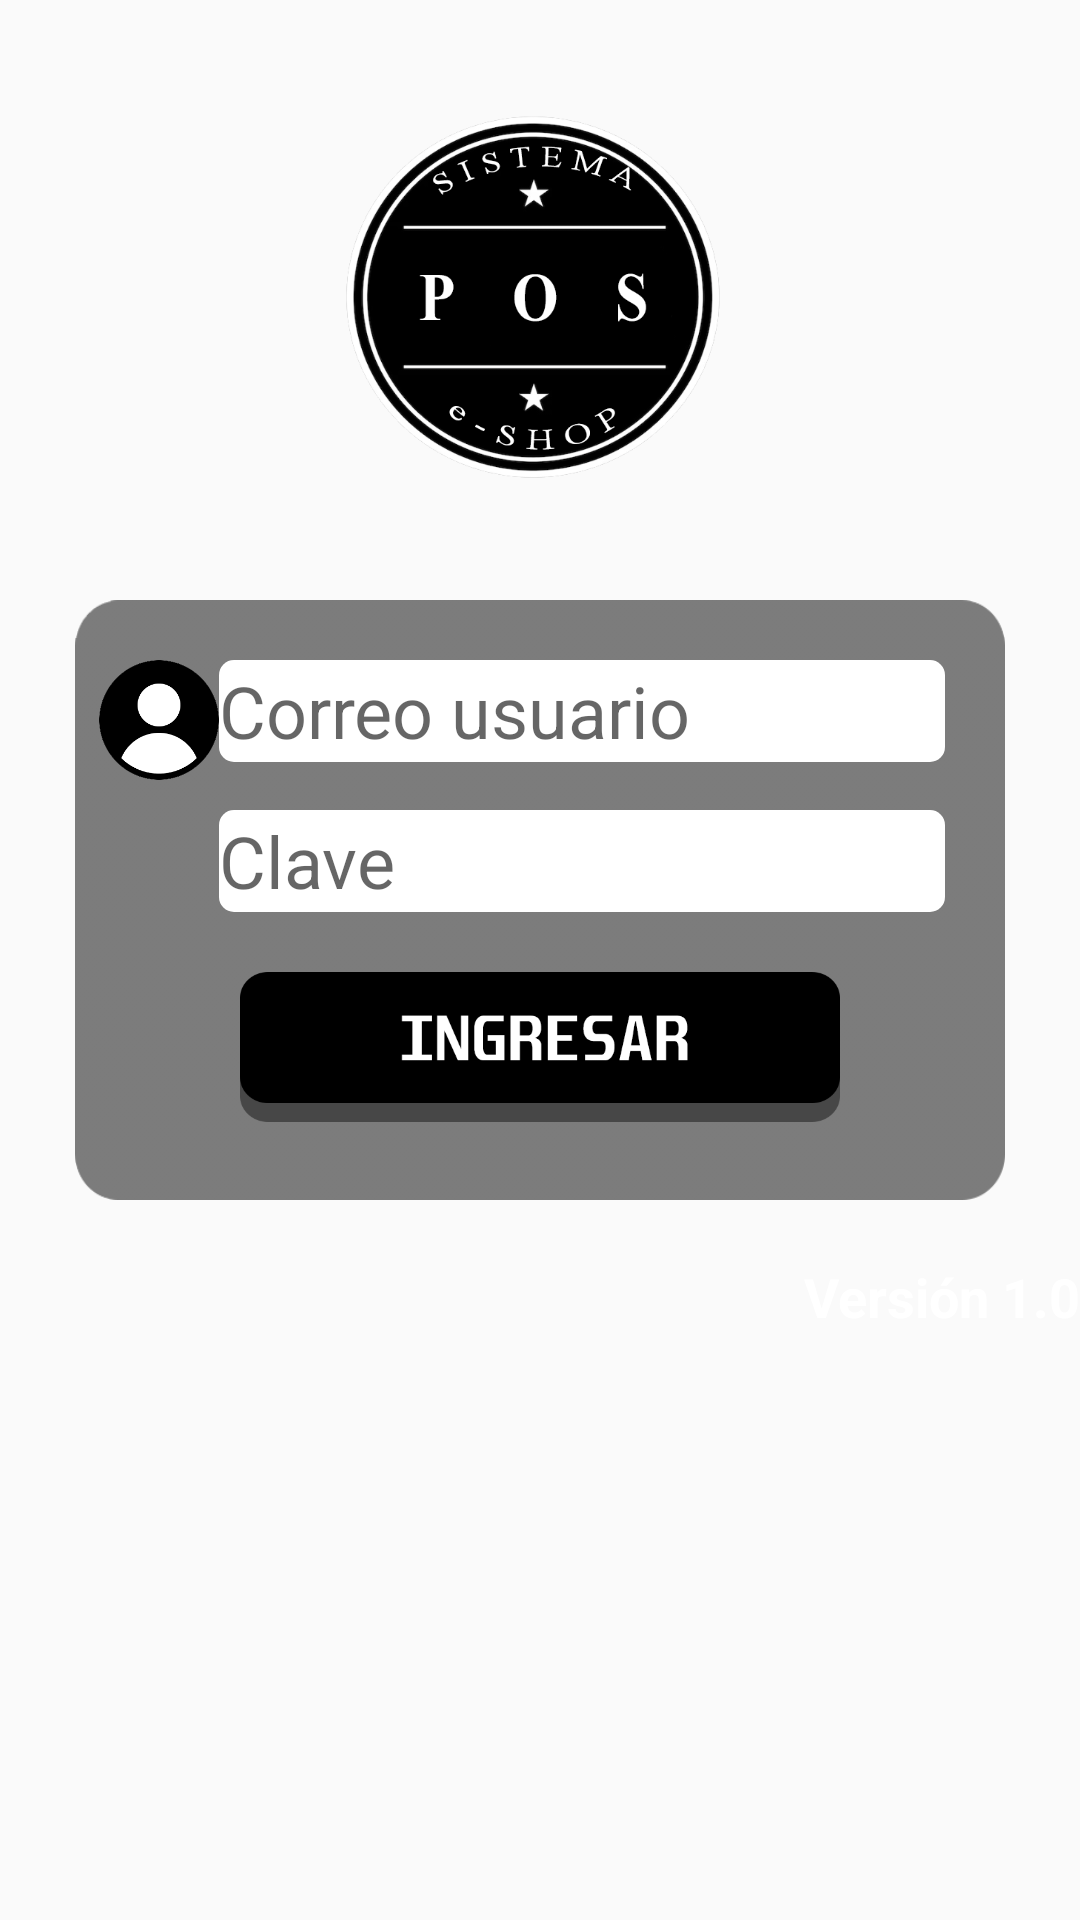

Point at icon controls on the screen. Image size 1080 x 1920, points as (x=x, y=y).
user: (x=159, y=720)
